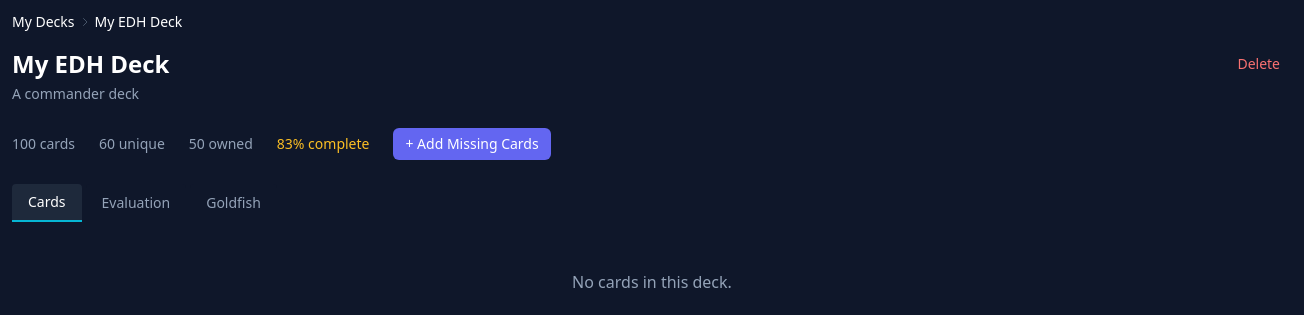
Test: DeckView inline edit › pressing Escape reverts name and exits edit mode
Click the heading with test id "deck-title".
click(91, 64)  # box [12, 47, 170, 80]
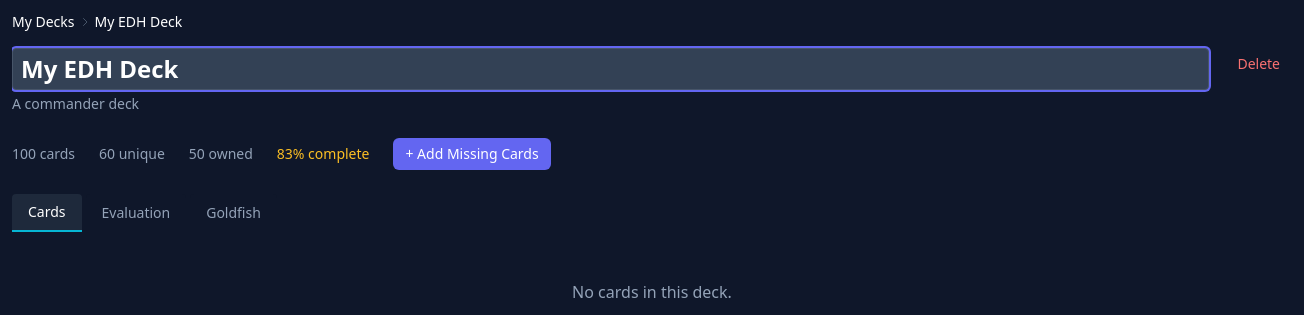
Replace the text in the field with test id "deck-title-input" with "Changed Name" at (611, 69), box [12, 48, 1209, 90]
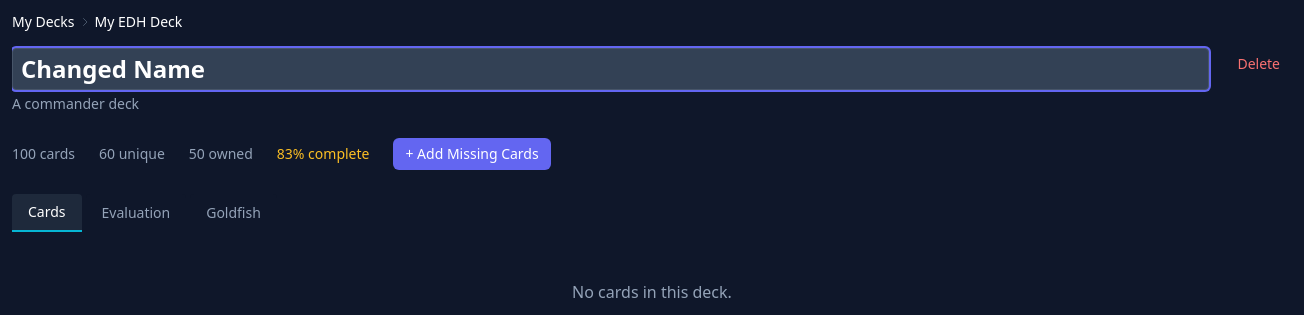
Press Escape in the field with test id "deck-title-input", box [12, 48, 1209, 90]
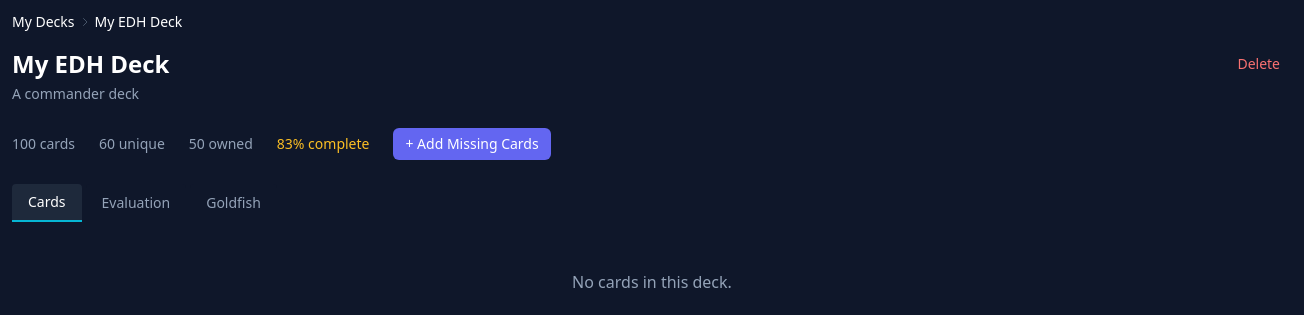
Expected: the field with test id "deck-title-input" is gone
Expected: the heading with test id "deck-title" reads "My EDH Deck", [12, 47, 170, 80]
